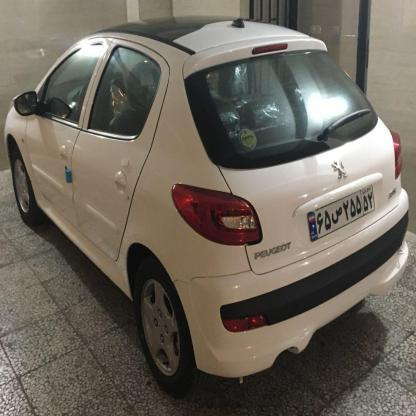Car: (0, 31, 407, 390)
